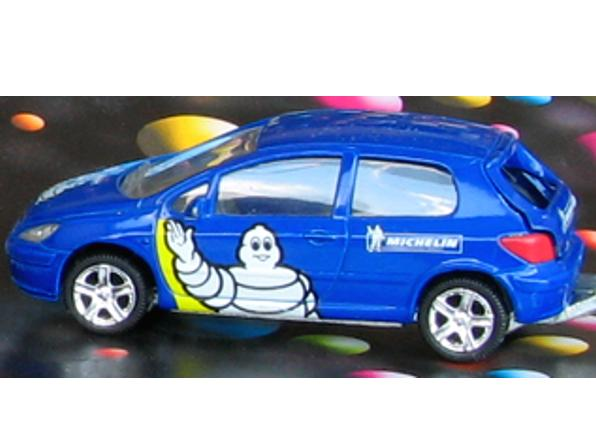toy-car: (3, 107, 596, 362)
